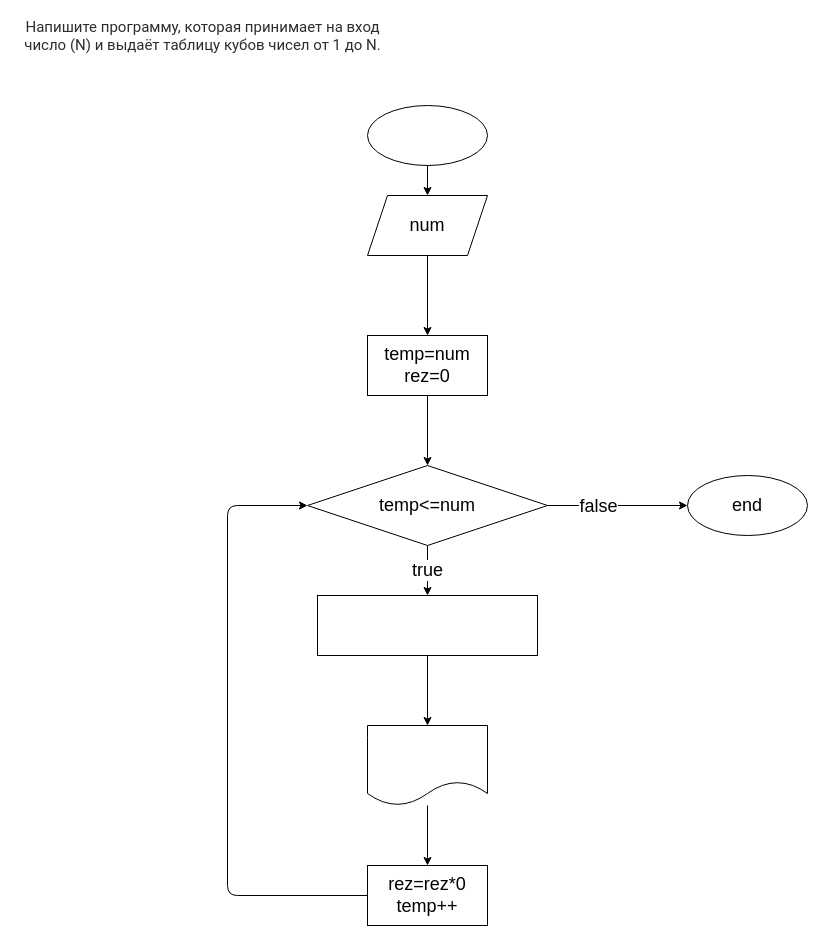
Image size: 825x943. Some labels were removed from this diagram. Each missing label, with the centre of its shape:
rez=Math.Pow(temp,3): the point at 427,625
start: the point at 427,135
temp^3=rez: the point at 427,765
